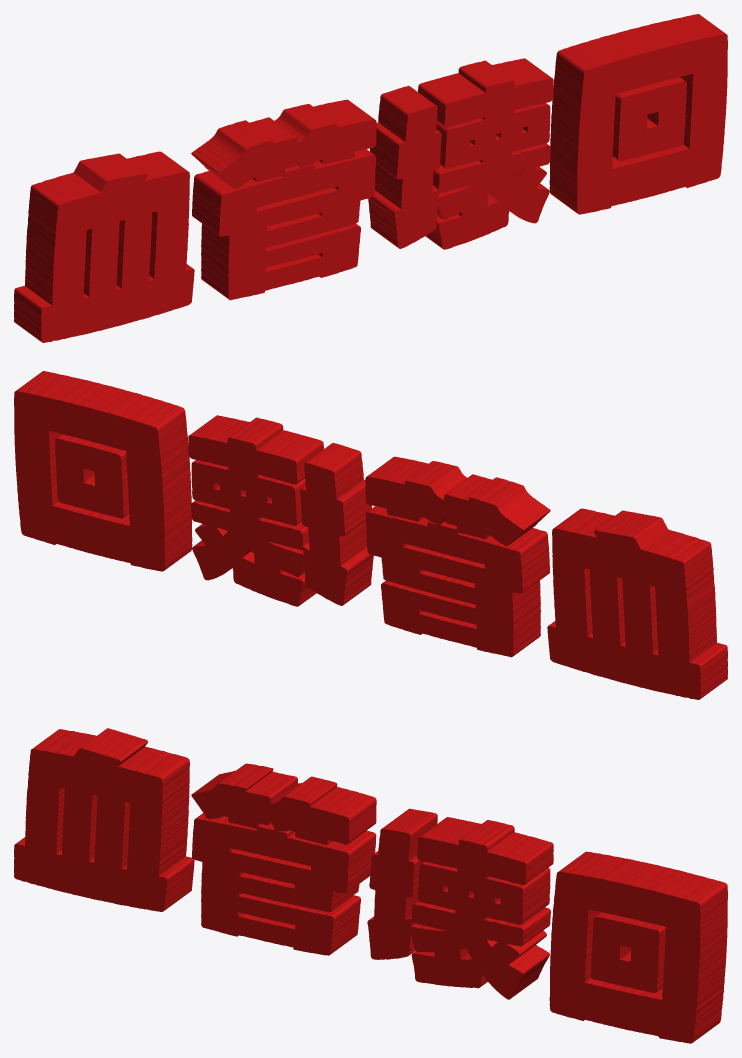
File: TD_Title.obj
The picture shows the model from 3 angles, top to bottom: view 1: azimuth 30°, elevation 25°; view 2: azimuth 150°, elevation 25°; view 3: azimuth 330°, elevation 25°; orthographic projection.
Parts seen in each view (by area): view 1: テキスト; view 2: テキスト; view 3: テキスト.
Part boxes in pixels (x1=…): テキスト: x1=14, y1=14, x2=727, y2=342; テキスト: x1=14, y1=371, x2=727, y2=699; テキスト: x1=14, y1=728, x2=727, y2=1043.
Bounding box in the file's own units: 5.8 × 1.23 × 0.4.
